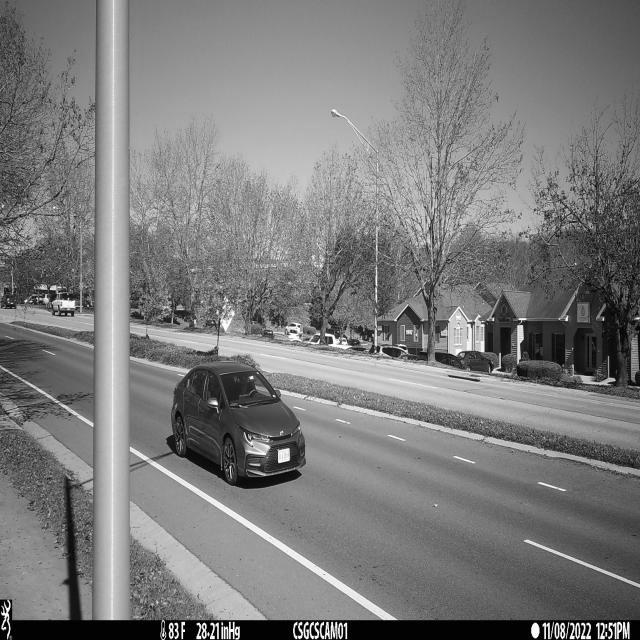Sedan: (173, 357, 305, 484)
